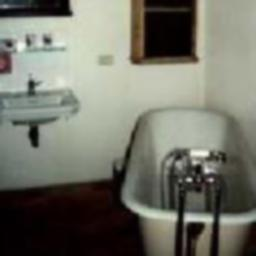Lavamanos: (0, 72, 88, 154)
